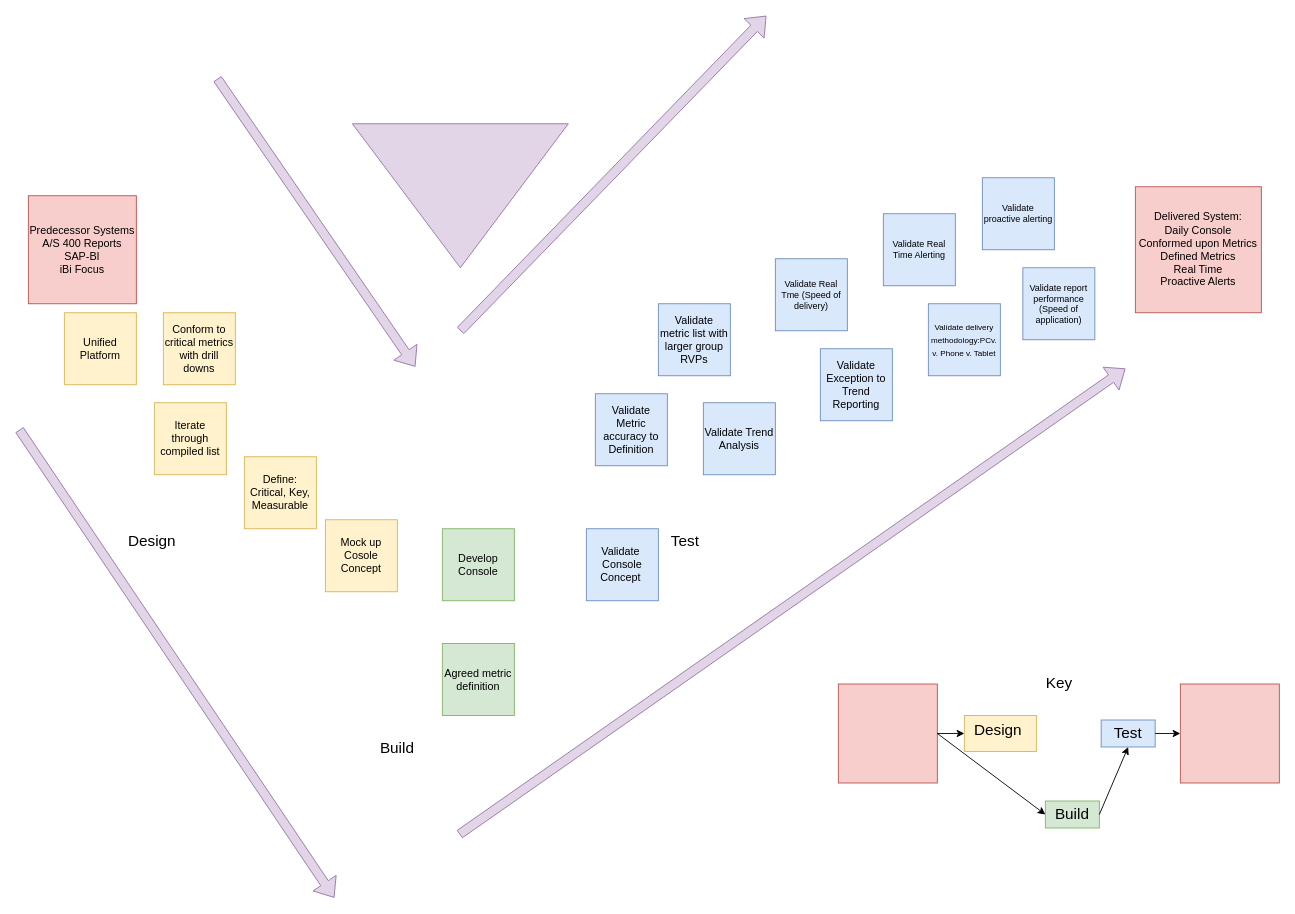
Some shapes in this 1295 by 914 pixel diagram are drawn without their labels. The shapes that lost their labels are listed below. From the top down, each one's centre as x and y in pixels, then its label:
At pixel 459 195: "V-diagram of RVP Reporting Development".
At pixel 887 733: "Understand".
At pixel 1229 733: "Deliver".
